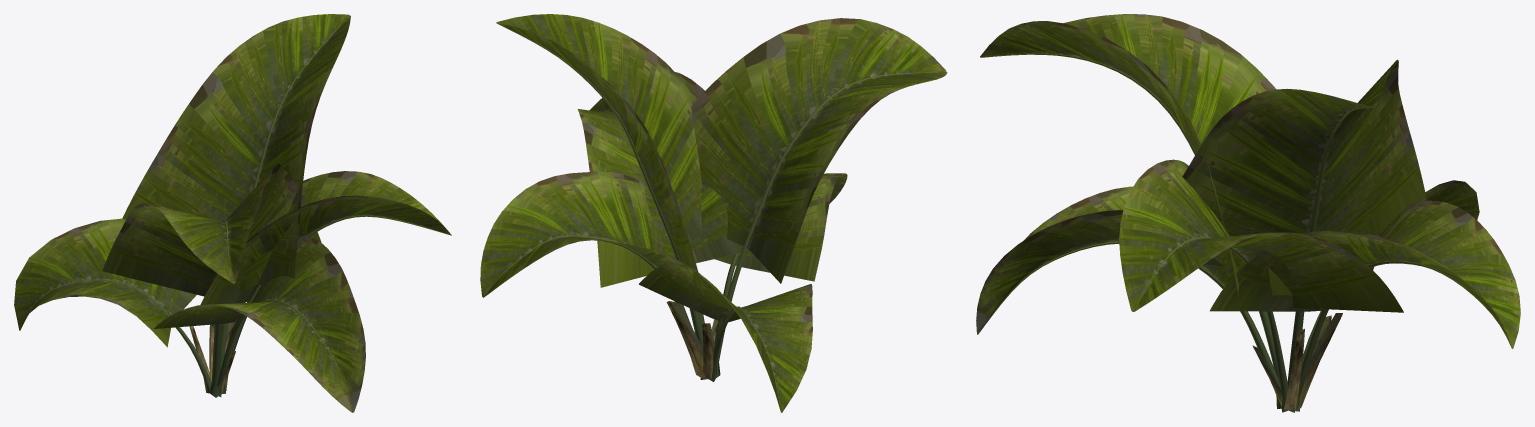
Rendered from arbusto1.fbx.
The picture shows the model from 3 angles, left to right: view 1: azimuth 30°, elevation 25°; view 2: azimuth 150°, elevation 25°; view 3: azimuth 270°, elevation 25°; orthographic projection. The views are drawn at different scales.
Parts seen in each view (by area): view 1: Alexandra Palm Plant Elder; view 2: Alexandra Palm Plant Elder; view 3: Alexandra Palm Plant Elder.
Part boxes in pixels (x1=…): Alexandra Palm Plant Elder: x1=14, y1=14, x2=451, y2=412; Alexandra Palm Plant Elder: x1=480, y1=14, x2=947, y2=412; Alexandra Palm Plant Elder: x1=976, y1=14, x2=1520, y2=412.
Size of the model in its own units: 153 by 148 by 178.
